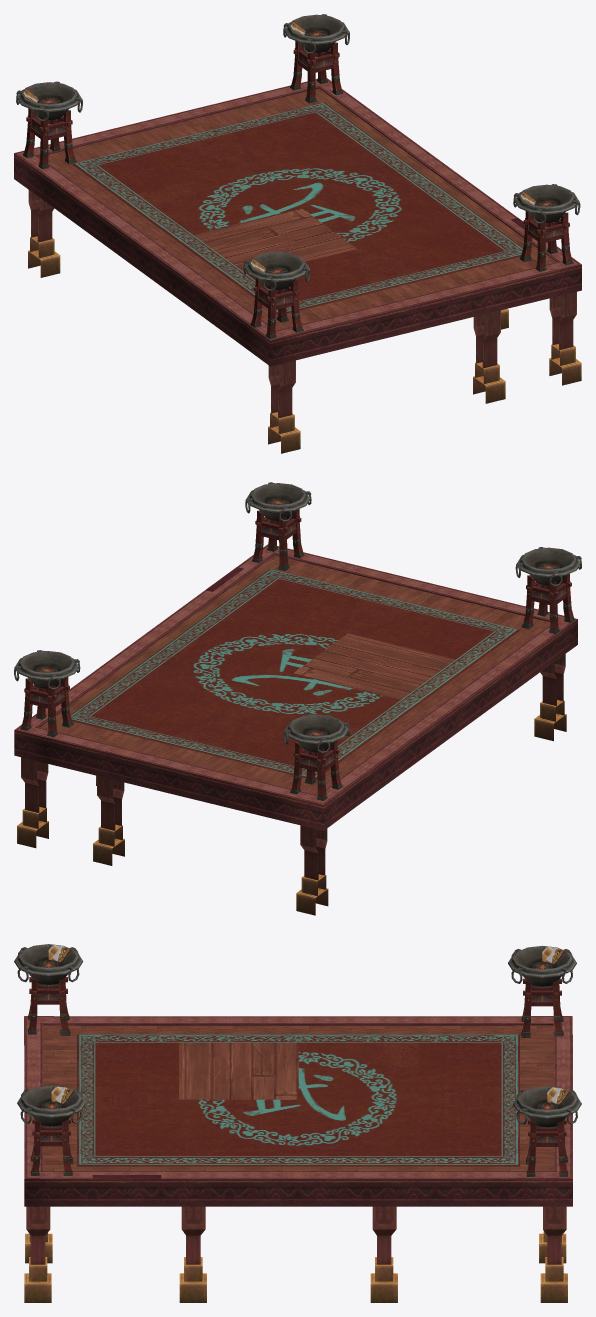
Rendered from jingjitai01_55_59_0758out.fbx.
The picture shows the model from 3 angles, top to bottom: view 1: azimuth 30°, elevation 25°; view 2: azimuth 150°, elevation 25°; view 3: azimuth 270°, elevation 25°; orthographic projection. The views are drawn at different scales.
Visible parts, largest first — view 1: 0002_jj_ditan02, 0001_jj_leitai01, 0000_jj_huopen01, 0003_jj_leitai01; view 2: 0002_jj_ditan02, 0001_jj_leitai01, 0000_jj_huopen01, 0003_jj_leitai01; view 3: 0002_jj_ditan02, 0001_jj_leitai01, 0000_jj_huopen01, 0003_jj_leitai01.
Boxes of the visible parts, x1,y1,x2,y2 form: 0002_jj_ditan02: (72,102,522,314); 0001_jj_leitai01: (14,78,581,453); 0000_jj_huopen01: (16,14,580,338); 0003_jj_leitai01: (39,88,555,330); 0002_jj_ditan02: (71,569,520,779); 0001_jj_leitai01: (14,544,577,915); 0000_jj_huopen01: (14,482,581,800); 0003_jj_leitai01: (40,555,549,794); 0002_jj_ditan02: (77,1034,519,1166); 0001_jj_leitai01: (24,1016,572,1302); 0000_jj_huopen01: (14,944,581,1176); 0003_jj_leitai01: (43,1025,553,1170).
Bounding box in the file's own units: 10.83 × 5.7 × 15.14.
